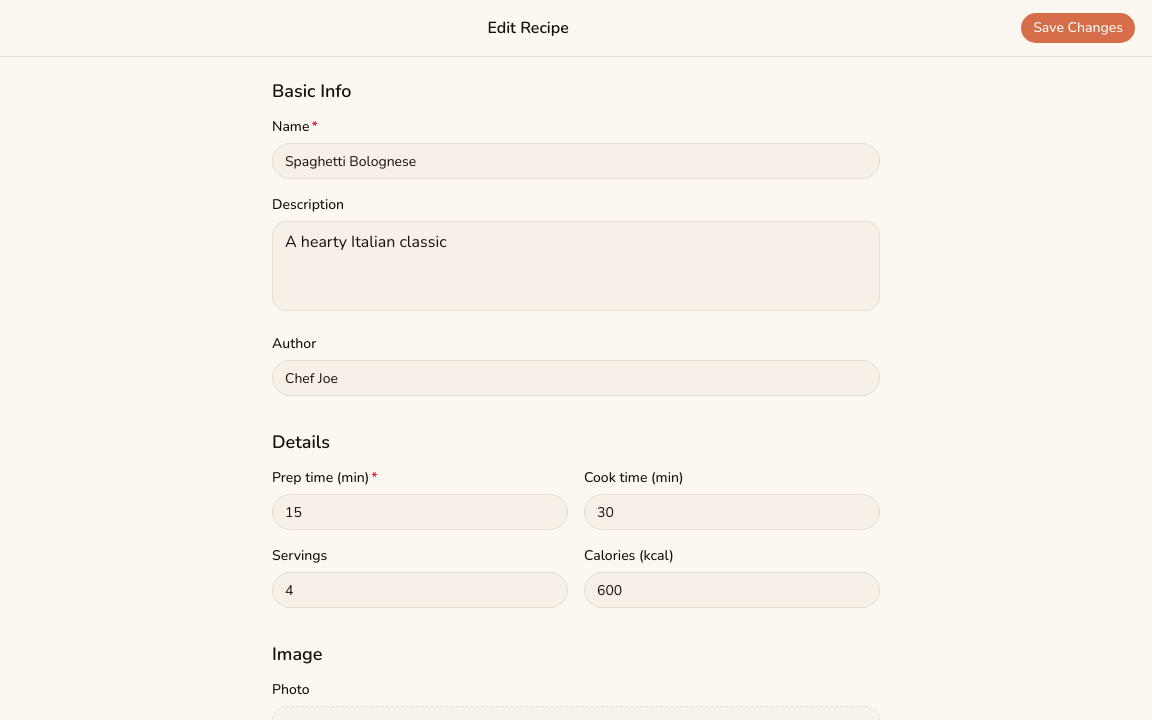
EditRecipeForm › validation › shows error when name is empty
The width and height of the screenshot is (1152, 720).
Clear the field showing "Spaghetti Bolognese" below "Name" at (576, 161), box [272, 143, 880, 179]
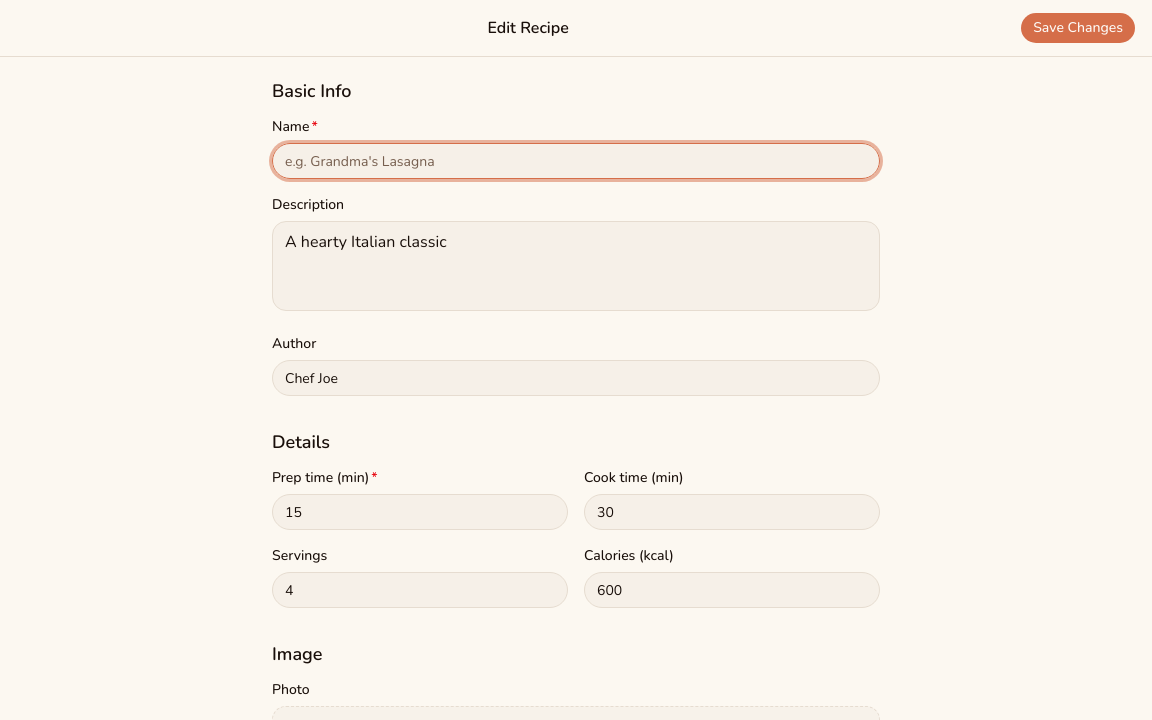
Click the button "Save Changes" at (1078, 28), box [1020, 12, 1136, 44]
(page scrolled)
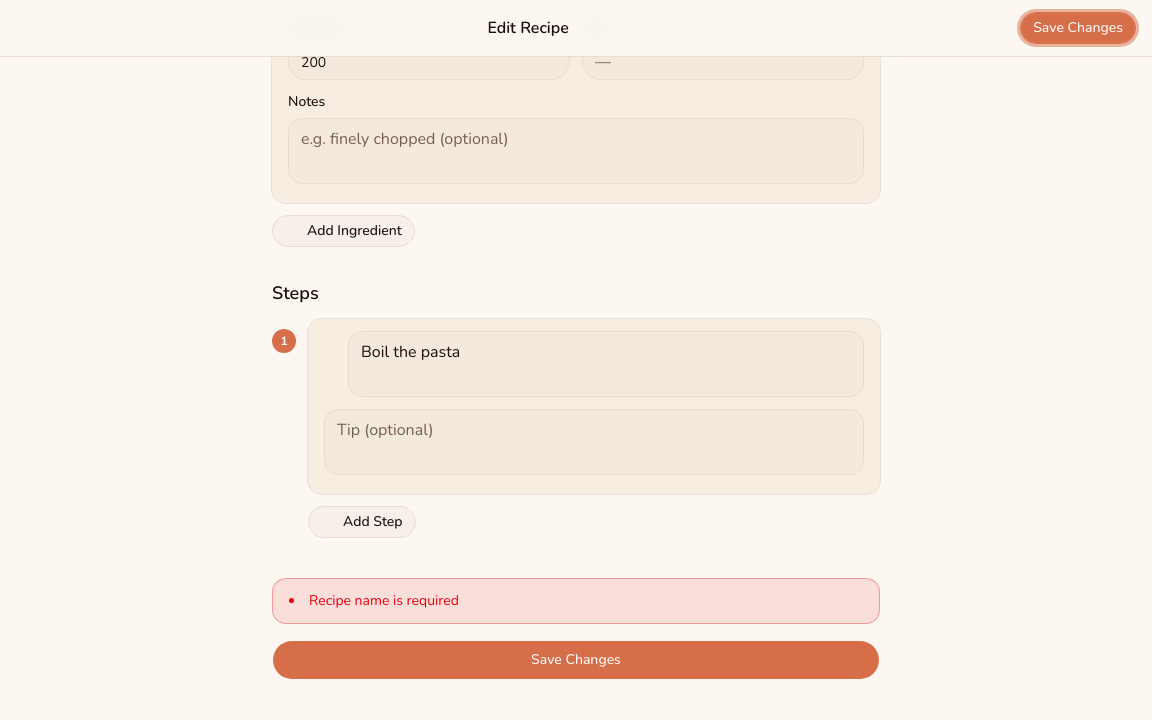
Expected: the list item "Recipe name is required" is shown, [309, 591, 459, 610]
